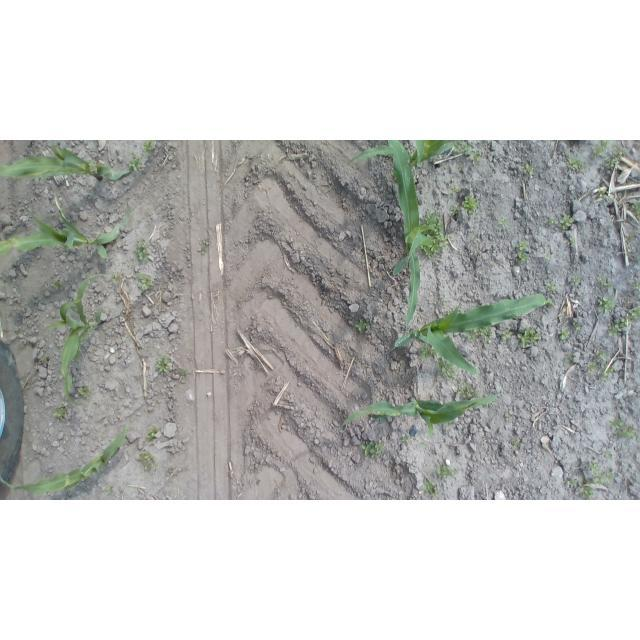Maize: (395, 296, 551, 378), (386, 140, 438, 348), (0, 423, 132, 496), (1, 193, 135, 264), (336, 386, 504, 440), (47, 270, 105, 409), (1, 142, 134, 185), (343, 141, 465, 172)
Weeds: (422, 209, 451, 259), (573, 477, 605, 499), (609, 416, 637, 441), (434, 357, 459, 381), (608, 316, 634, 338), (517, 327, 543, 349), (359, 439, 386, 460), (586, 465, 614, 485), (137, 450, 159, 472), (465, 325, 493, 342), (597, 293, 618, 315), (454, 383, 479, 400), (565, 155, 587, 174), (136, 238, 153, 262), (515, 239, 530, 265), (420, 479, 440, 498), (436, 464, 459, 479), (462, 196, 480, 215), (156, 355, 173, 375), (592, 141, 612, 158), (128, 155, 145, 174), (453, 140, 473, 156), (558, 212, 575, 230), (600, 364, 617, 382), (138, 273, 154, 292), (419, 344, 437, 360), (54, 403, 70, 420), (355, 318, 372, 334), (76, 384, 92, 400), (604, 155, 620, 170), (596, 276, 613, 290), (146, 427, 161, 442), (595, 187, 610, 202), (198, 238, 210, 256), (564, 473, 579, 487), (557, 327, 572, 341), (142, 141, 157, 155), (496, 215, 509, 230), (450, 205, 463, 220), (499, 330, 513, 343), (165, 464, 178, 478), (522, 163, 537, 175), (629, 200, 639, 217), (110, 272, 123, 285), (470, 151, 482, 165), (546, 281, 557, 296), (510, 438, 523, 450), (177, 366, 190, 378), (594, 349, 607, 361), (569, 274, 581, 287), (447, 185, 461, 196), (628, 306, 637, 322), (400, 434, 412, 445), (586, 361, 597, 373), (469, 234, 480, 246), (604, 450, 617, 460), (105, 485, 116, 496), (53, 281, 64, 292), (571, 321, 582, 332), (543, 250, 553, 262), (567, 237, 576, 250), (39, 355, 50, 365), (624, 234, 636, 242), (547, 216, 556, 226), (633, 281, 640, 293), (505, 411, 514, 420), (566, 354, 575, 363)
